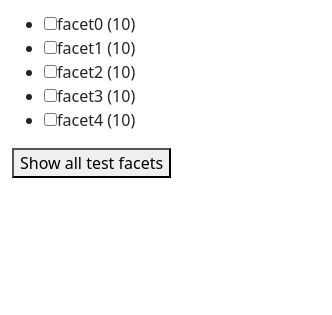
Test: FacetChecklist component › when there are more than five facets › shows only the first five facets when "Collapse" is clicked after expanding
Click the button "Show all test facets".
click(92, 163)  # box [12,148,171,178]
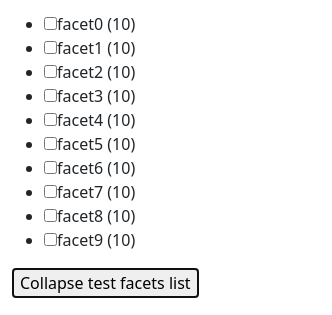
Click the button "Collapse test facets list".
click(105, 283)  # box [12,268,199,298]
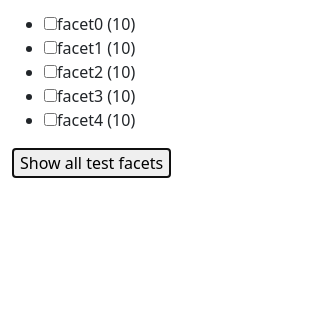
Check: the button "Show all test facets" is shown, box [12,148,171,178]
Check: the text "facet5 (10)" is gone
Check: the text "facet9 (10)" is gone
